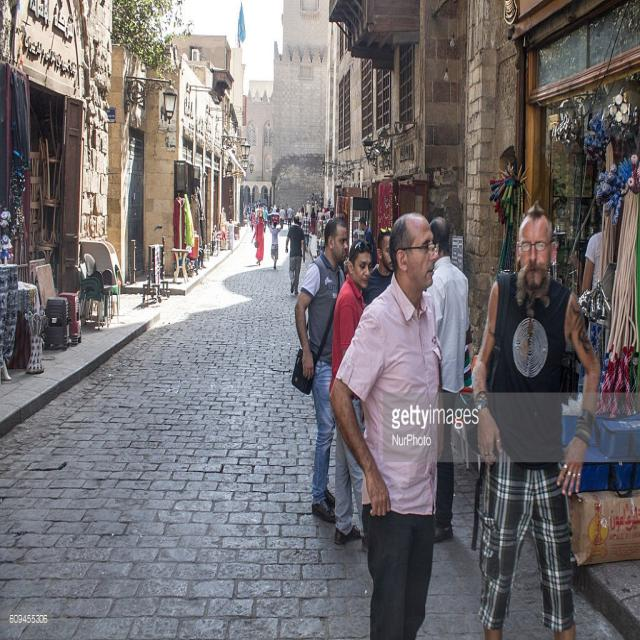body: (469, 199, 602, 639), (329, 211, 445, 640), (289, 215, 349, 524), (424, 212, 475, 546), (328, 237, 374, 547), (360, 226, 396, 307), (578, 214, 607, 308), (284, 214, 306, 295), (243, 198, 295, 227), (358, 215, 378, 271), (266, 220, 284, 270), (312, 191, 335, 230), (251, 214, 265, 266), (300, 209, 311, 251), (278, 206, 286, 230), (286, 203, 293, 230), (310, 206, 316, 232), (296, 206, 303, 226), (300, 204, 306, 217)
